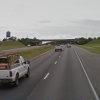Car: (3, 44, 34, 92)
